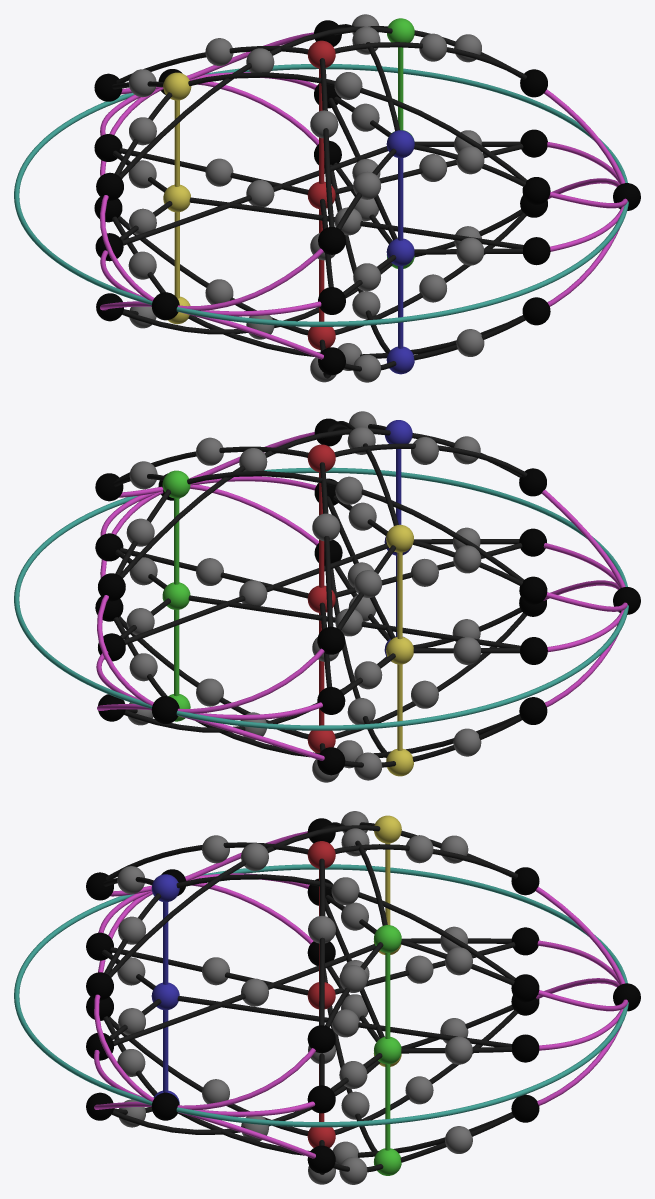
Rendered from Tata_hipergraf_69_50_002.glb.
3 renders of one model, top to bottom at view 1: azimuth 30°, elevation 25°; view 2: azimuth 150°, elevation 25°; view 3: azimuth 270°, elevation 25°, orthographic.
Visible parts, largest first — view 1: kruznica, Curve.059, Curve.013, Curve.002, Curve.060, Curve.014, Curve.050, Curve.076, Curve.072, Curve.073, Curve.075, Curve.041 (+64 smaller); view 2: kruznica, Curve.060, Curve.052, Curve.014, Curve.061, Curve.017, Curve.002, Curve.065, Curve.076, Curve.073, Curve.079, Curve.035 (+63 smaller); view 3: kruznica, Curve.061, Curve.059, Curve.017, Curve.050, Curve.013, Curve.052, Curve.074, Curve.075, Curve.051, Curve.072, Curve.076 (+62 smaller).
Boxes of the visible parts, <box> form: kruznica: <box>14,64,628,326</box>; Curve.059: <box>188,72,527,181</box>; Curve.013: <box>189,197,523,248</box>; Curve.002: <box>100,195,323,310</box>; Curve.060: <box>118,26,392,178</box>; Curve.014: <box>122,146,388,245</box>; Curve.050: <box>544,89,627,208</box>; Curve.076: <box>100,81,318,176</box>; Curve.072: <box>188,315,522,358</box>; Curve.073: <box>122,262,392,334</box>; Curve.075: <box>100,301,323,359</box>; Curve.041: <box>334,42,526,79</box>; kruznica: <box>14,467,628,730</box>; Curve.060: <box>187,471,524,581</box>; Curve.052: <box>97,595,324,713</box>; Curve.014: <box>188,595,520,647</box>; Curve.061: <box>119,428,390,578</box>; Curve.017: <box>124,543,388,644</box>; Curve.002: <box>541,490,627,611</box>; Curve.065: <box>100,484,318,578</box>; Curve.076: <box>97,704,324,760</box>; Curve.073: <box>196,714,519,757</box>; Curve.079: <box>397,552,402,750</box>; Curve.035: <box>334,443,527,477</box>; kruznica: <box>14,864,628,1127</box>; Curve.061: <box>176,874,515,980</box>; Curve.059: <box>107,825,380,977</box>; Curve.017: <box>177,996,511,1046</box>; Curve.050: <box>94,994,315,1109</box>; Curve.013: <box>113,944,375,1045</box>; Curve.052: <box>535,887,627,1011</box>; Curve.074: <box>178,1112,511,1157</box>; Curve.075: <box>98,883,313,972</box>; Curve.051: <box>537,940,623,1050</box>; Curve.072: <box>112,1060,380,1134</box>; Curve.076: <box>536,978,621,1105</box>.
Size of the model in its own units: 1.07 by 0.5898 by 1.09.
